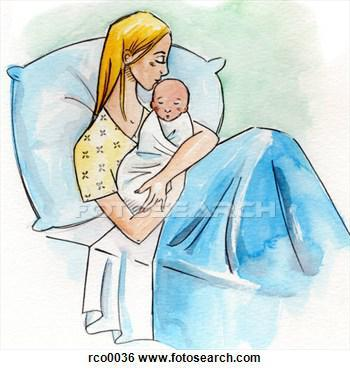person: (66, 10, 221, 246), (112, 76, 192, 216)
